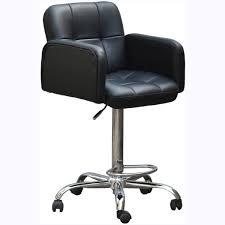chair: (33, 0, 188, 225)
